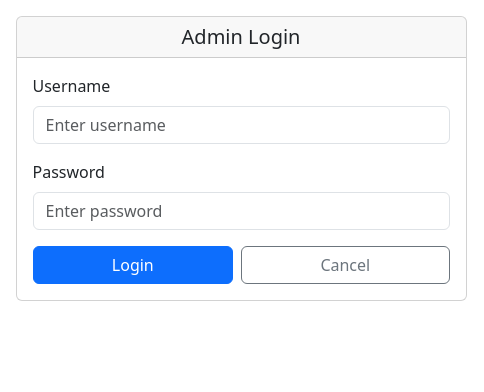
it: TODO-01: Login — hiển thị lỗi khi đăng nhập thất bại › Alert chứa thông báo lỗi từ server
Type "wronguser" into the field with placeholder "Enter username" at (241, 125), box [32,106,450,144]
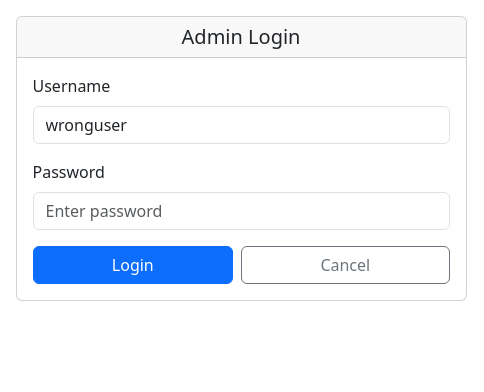
Type "wrong" into the password field with placeholder "Enter password" at (241, 211), box [32,192,450,230]
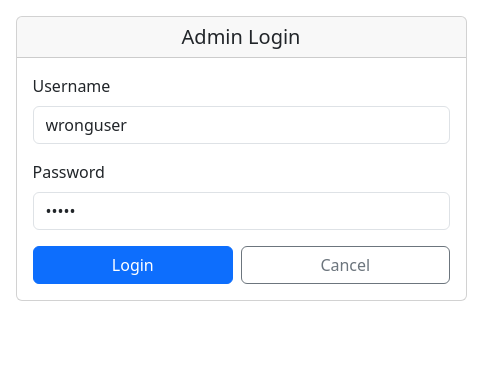
Click the button "Login" at (133, 265), box [32,246,233,284]
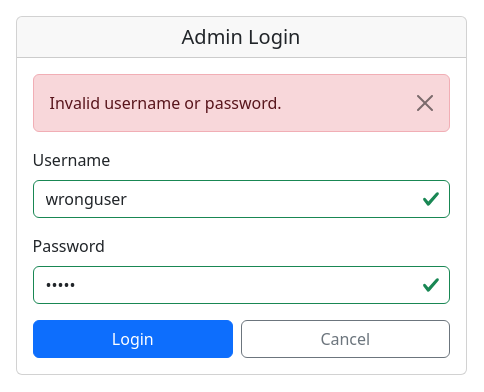
Check: the message reads "Invalid username or password.", box [50,92,282,114]
